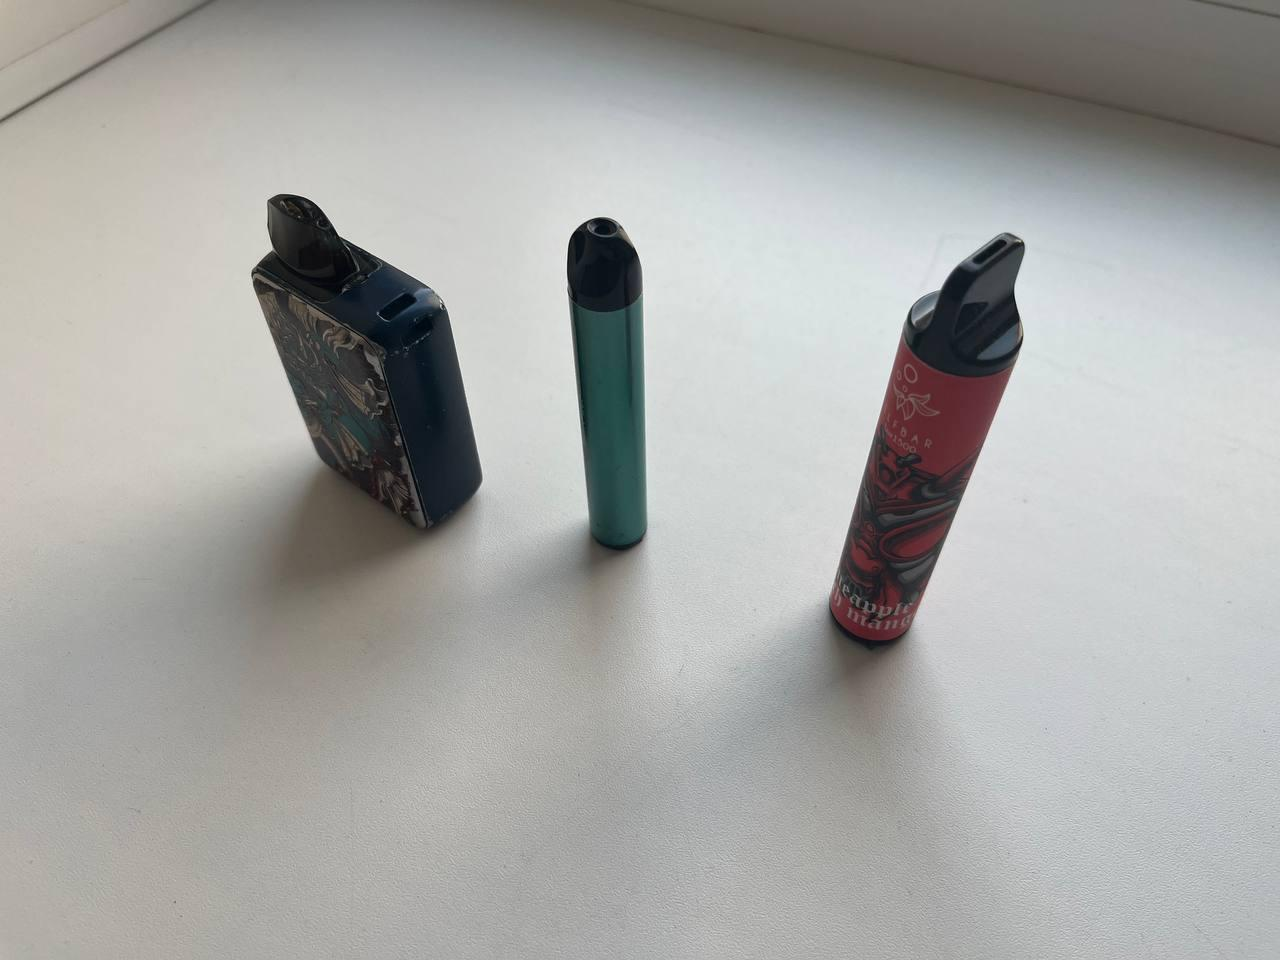Vape: (829, 234, 1024, 645), (252, 194, 481, 528), (568, 217, 647, 550)
